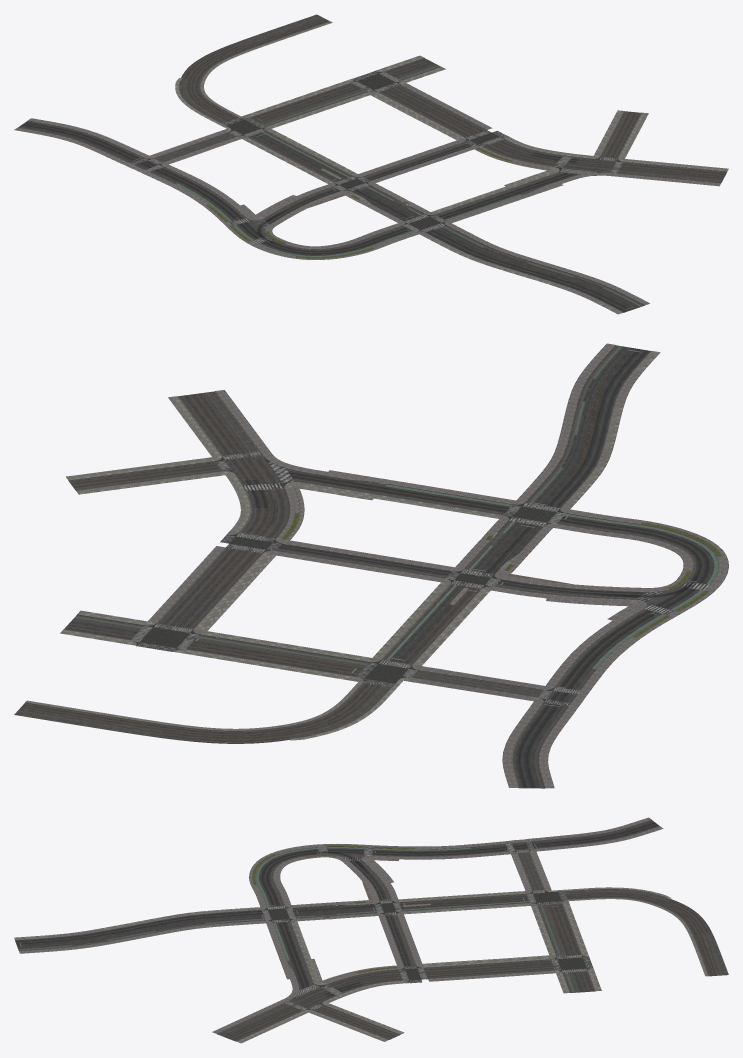
The model's file is free_city_road_layout_mockup.glb.
The picture shows the model from 3 angles, top to bottom: view 1: azimuth 30°, elevation 25°; view 2: azimuth 150°, elevation 25°; view 3: azimuth 270°, elevation 25°; orthographic projection. The views are drawn at different scales.
Parts seen in each view (by area): view 1: Road.002_OLD_SIDEWALK_TRIMSHEET_0_OLD_SIDEWALK_TRIMSHEET, Road.008_ROAD_NEW_0_ROAD_NEW, Road.009_ROAD_GENERIC_0_ROAD_GENERIC, Road.006_ROAD_WORNED_0_ROAD_WORNED, Road.005_GENERIC_SIDEWALKS_0_GENERIC_SIDEWALKS, Road.010_CROSSINGS_0_CROSSINGS, Road.007_BIKE_LANES_0_BIKE_LANES, Road.011_ASPHALT_BARE_0_ASPHALT_BARE, Road.001_ROAD_MARKINGS_0_ROAD_MARKINGS, Road.003_GRASS_0_GRASS; view 2: Road.002_OLD_SIDEWALK_TRIMSHEET_0_OLD_SIDEWALK_TRIMSHEET, Road.008_ROAD_NEW_0_ROAD_NEW, Road.009_ROAD_GENERIC_0_ROAD_GENERIC, Road.005_GENERIC_SIDEWALKS_0_GENERIC_SIDEWALKS, Road.006_ROAD_WORNED_0_ROAD_WORNED, Road.010_CROSSINGS_0_CROSSINGS, Road.001_ROAD_MARKINGS_0_ROAD_MARKINGS, Road.011_ASPHALT_BARE_0_ASPHALT_BARE, Road.007_BIKE_LANES_0_BIKE_LANES, Road.003_GRASS_0_GRASS; view 3: Road.002_OLD_SIDEWALK_TRIMSHEET_0_OLD_SIDEWALK_TRIMSHEET, Road.008_ROAD_NEW_0_ROAD_NEW, Road.009_ROAD_GENERIC_0_ROAD_GENERIC, Road.005_GENERIC_SIDEWALKS_0_GENERIC_SIDEWALKS, Road.006_ROAD_WORNED_0_ROAD_WORNED, Road.010_CROSSINGS_0_CROSSINGS, Road.007_BIKE_LANES_0_BIKE_LANES, Road.011_ASPHALT_BARE_0_ASPHALT_BARE, Road.001_ROAD_MARKINGS_0_ROAD_MARKINGS, Road.003_GRASS_0_GRASS.
Part boxes in pixels (box(x1,y1,x2,y2)): Road.002_OLD_SIDEWALK_TRIMSHEET_0_OLD_SIDEWALK_TRIMSHEET: box(14, 21, 720, 311); Road.008_ROAD_NEW_0_ROAD_NEW: box(20, 62, 640, 312); Road.009_ROAD_GENERIC_0_ROAD_GENERIC: box(18, 19, 726, 221); Road.006_ROAD_WORNED_0_ROAD_WORNED: box(27, 14, 726, 306); Road.005_GENERIC_SIDEWALKS_0_GENERIC_SIDEWALKS: box(175, 21, 728, 314); Road.010_CROSSINGS_0_CROSSINGS: box(131, 71, 622, 244); Road.007_BIKE_LANES_0_BIKE_LANES: box(175, 65, 641, 306); Road.011_ASPHALT_BARE_0_ASPHALT_BARE: box(146, 71, 621, 231); Road.001_ROAD_MARKINGS_0_ROAD_MARKINGS: box(133, 20, 722, 309); Road.003_GRASS_0_GRASS: box(206, 147, 512, 258); Road.002_OLD_SIDEWALK_TRIMSHEET_0_OLD_SIDEWALK_TRIMSHEET: box(25, 343, 728, 788); Road.008_ROAD_NEW_0_ROAD_NEW: box(69, 346, 714, 788); Road.009_ROAD_GENERIC_0_ROAD_GENERIC: box(20, 393, 595, 788); Road.005_GENERIC_SIDEWALKS_0_GENERIC_SIDEWALKS: box(25, 351, 660, 740); Road.006_ROAD_WORNED_0_ROAD_WORNED: box(14, 345, 695, 788); Road.010_CROSSINGS_0_CROSSINGS: box(131, 451, 710, 705); Road.001_ROAD_MARKINGS_0_ROAD_MARKINGS: box(18, 348, 714, 742); Road.011_ASPHALT_BARE_0_ASPHALT_BARE: box(135, 457, 564, 701); Road.007_BIKE_LANES_0_BIKE_LANES: box(75, 346, 718, 668); Road.003_GRASS_0_GRASS: box(282, 512, 721, 637); Road.002_OLD_SIDEWALK_TRIMSHEET_0_OLD_SIDEWALK_TRIMSHEET: box(15, 817, 708, 1033); Road.008_ROAD_NEW_0_ROAD_NEW: box(15, 821, 659, 996); Road.009_ROAD_GENERIC_0_ROAD_GENERIC: box(223, 820, 716, 1040); Road.005_GENERIC_SIDEWALKS_0_GENERIC_SIDEWALKS: box(14, 887, 708, 1043); Road.006_ROAD_WORNED_0_ROAD_WORNED: box(18, 826, 728, 1041); Road.010_CROSSINGS_0_CROSSINGS: box(261, 841, 593, 1010); Road.007_BIKE_LANES_0_BIKE_LANES: box(18, 847, 574, 992); Road.011_ASPHALT_BARE_0_ASPHALT_BARE: box(263, 849, 589, 1009); Road.001_ROAD_MARKINGS_0_ROAD_MARKINGS: box(18, 843, 723, 1037); Road.003_GRASS_0_GRASS: box(252, 845, 414, 973).
Size of the model in its own units: 444 by 0.22 by 594.
Materials: 11 (11 with a texture image).
